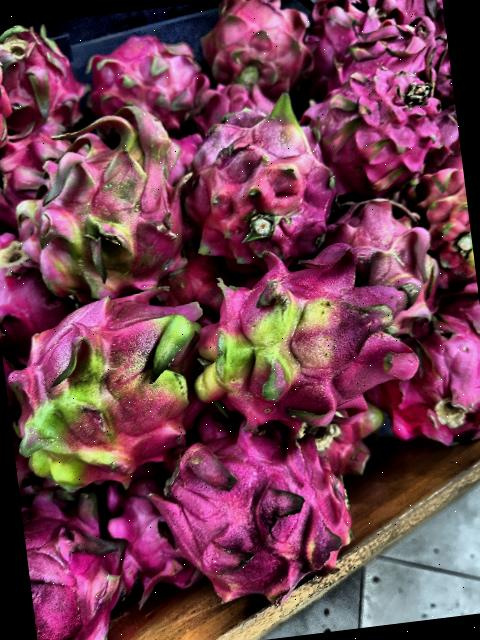buah-naga-belum-matang: (190, 246, 428, 442), (0, 280, 220, 491), (13, 112, 192, 298), (323, 188, 451, 336), (408, 168, 477, 289)
buah-naga-matang: (145, 424, 370, 618), (179, 95, 344, 268), (308, 55, 454, 194), (19, 474, 139, 640), (76, 13, 212, 146), (374, 312, 480, 446), (195, 0, 316, 100), (0, 18, 93, 146), (0, 206, 79, 335), (298, 0, 413, 72)
